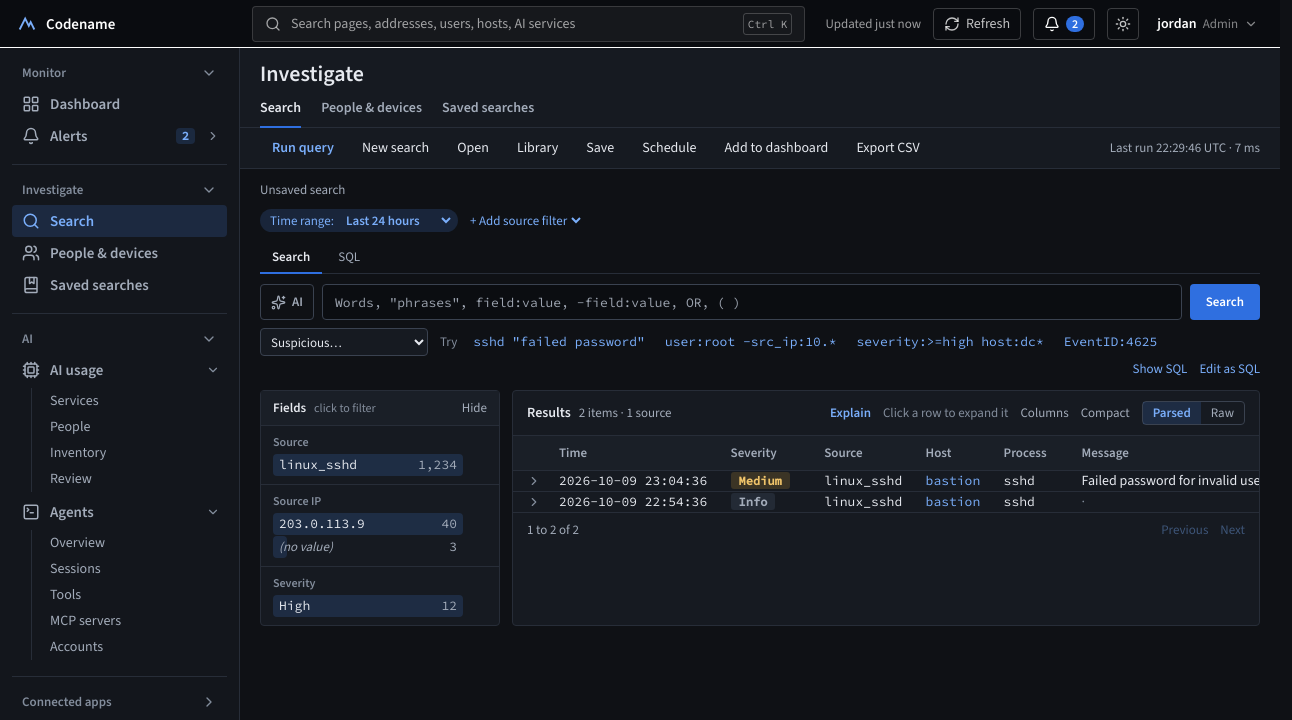
Test: Sign in › signs out back to the sign-in page
This screenshot has width=1292, height=720.
Click the button "jordan admin".
click(1208, 24)  # box [1151,8,1264,40]
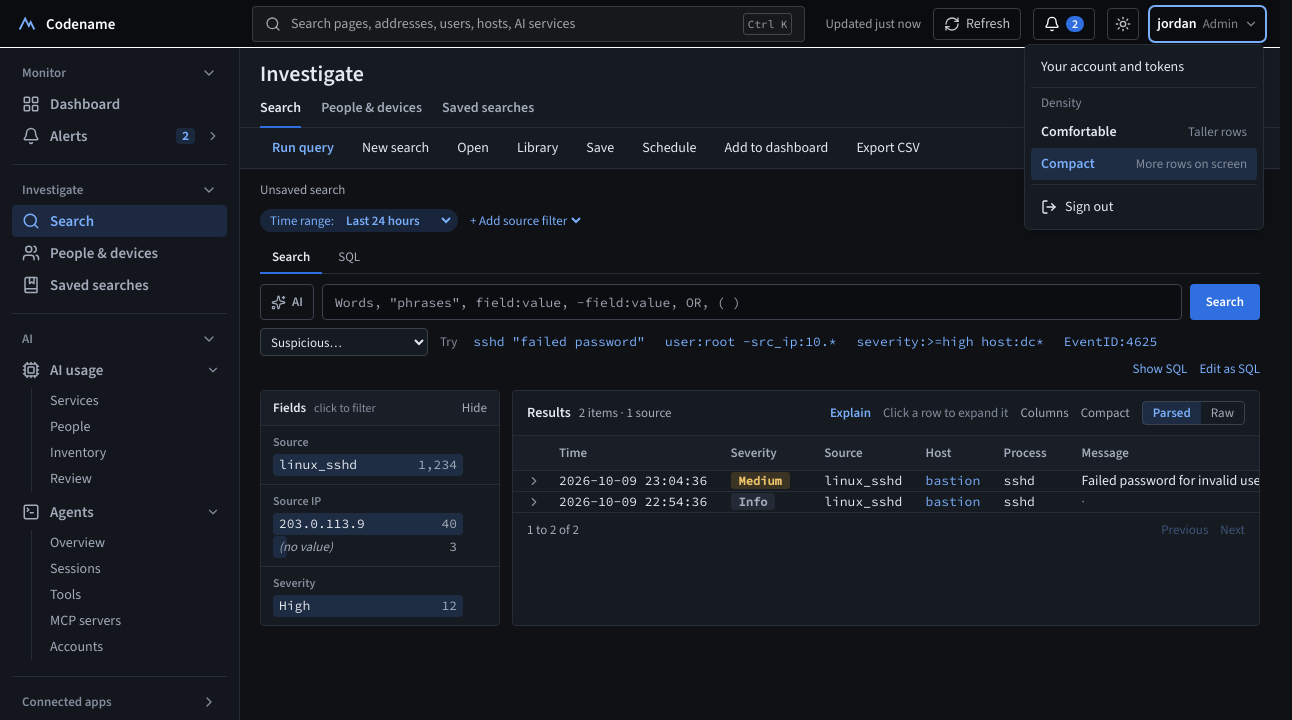
Click the button "Sign out".
click(1144, 206)  # box [1031,190,1257,222]
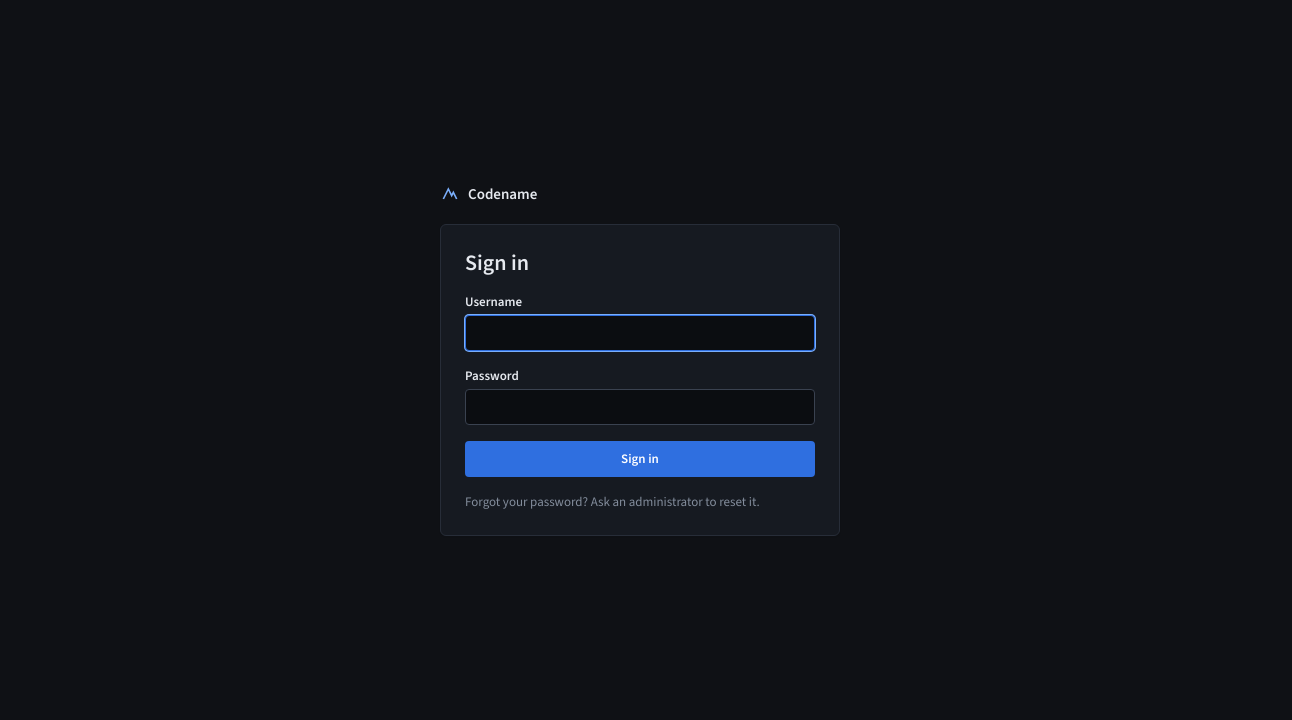
expect the button "Sign in" is shown: met, box [465,441,815,477]
